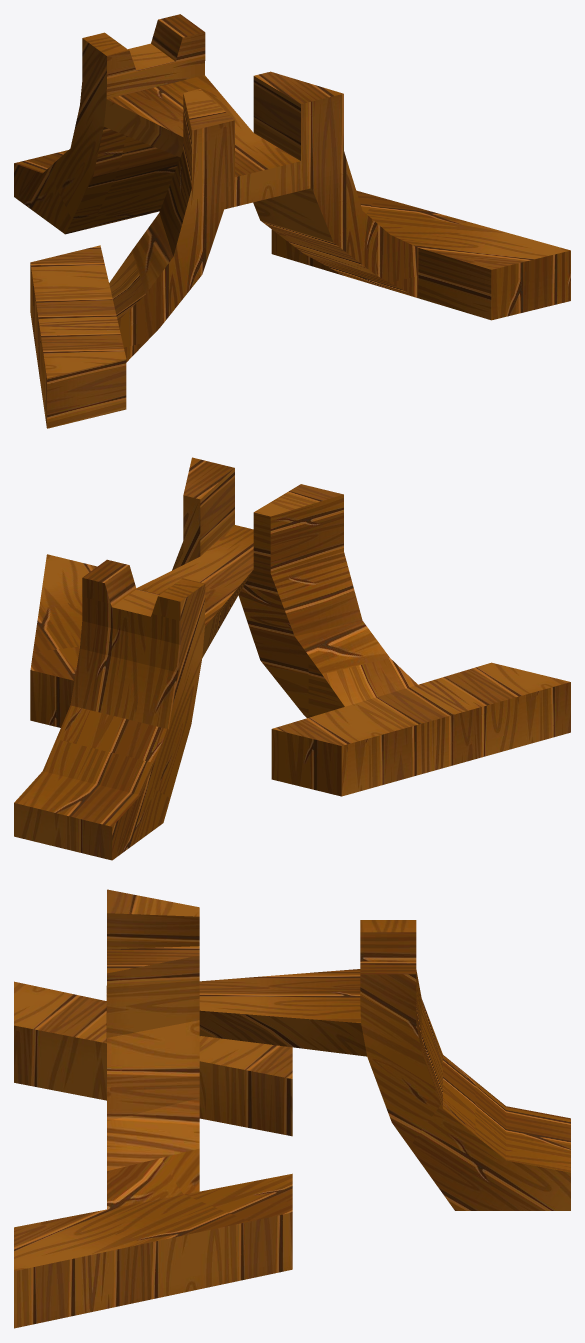
The model's file is podstavka_arbaleta-2.fbx.
3 renders of one model, top to bottom at view 1: azimuth 30°, elevation 25°; view 2: azimuth 150°, elevation 25°; view 3: azimuth 270°, elevation 25°, orthographic. The views are drawn at different scales.
Visible parts, largest first — view 1: Object009; view 2: Object009; view 3: Object009.
Boxes of the visible parts, <box> form: Object009: <box>14,14,570,428</box>; Object009: <box>14,457,570,860</box>; Object009: <box>14,889,570,1328</box>.
Size of the model in its own units: 61.71 by 25.05 by 50.14.
Materials: 1 (1 with a texture image).
